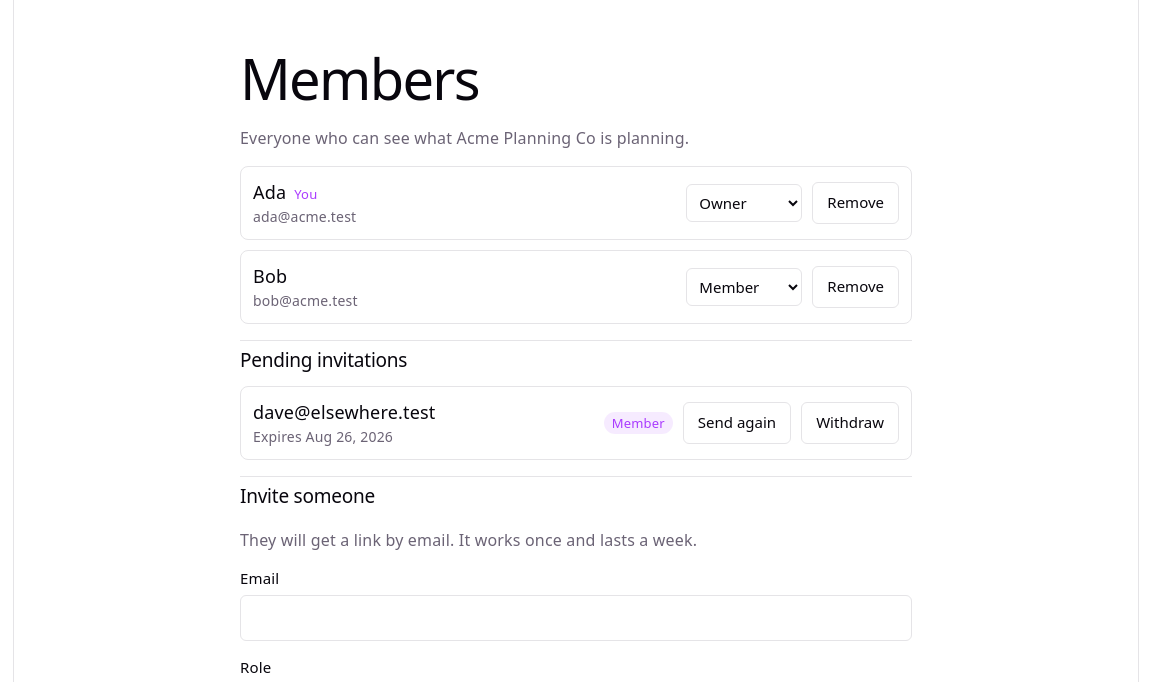
Test: MembersPage › reports a refused invitation against the address it was for
The width and height of the screenshot is (1152, 682).
expect the text "Ada" is shown: met, box [253, 180, 286, 204]
Type "bob@acme.test" into the field labelled "Email" at (576, 618), box [240, 595, 912, 641]
(page scrolled)
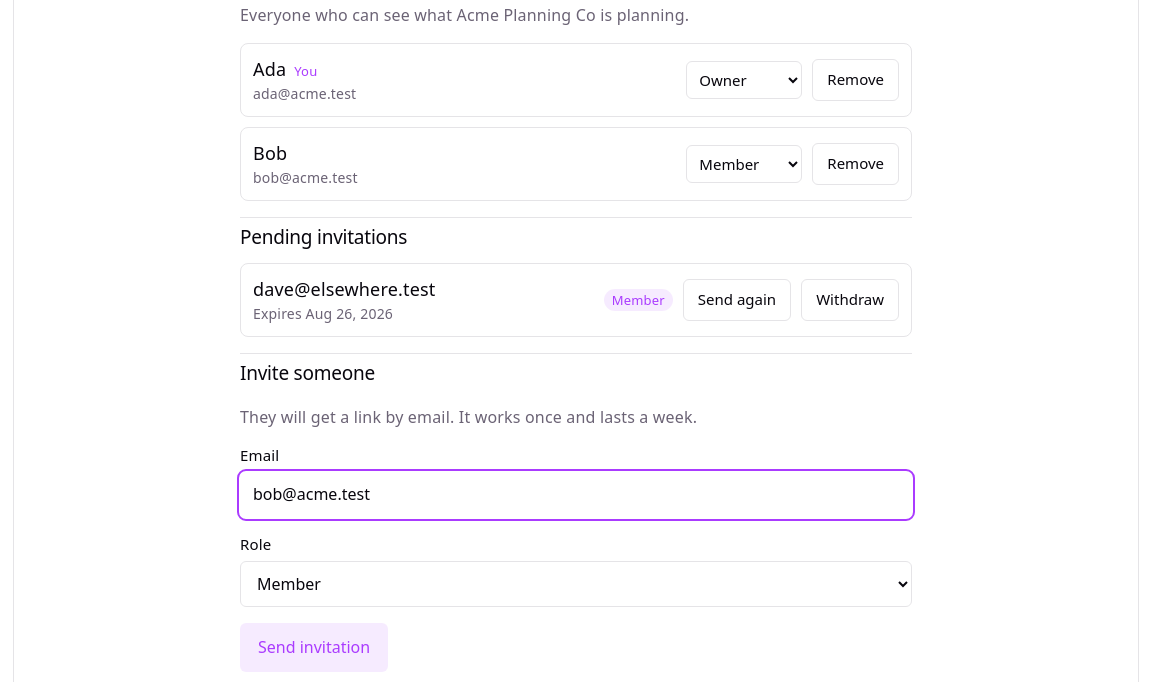
Click the button "Send invitation" at (314, 648), box [240, 623, 388, 672]
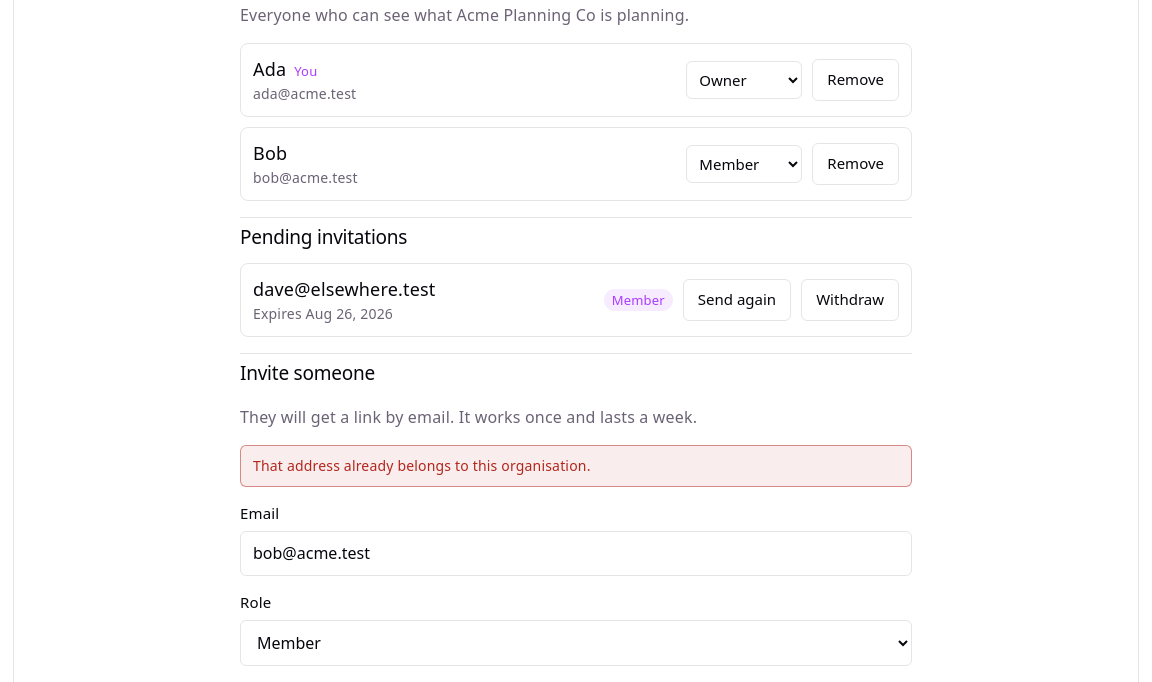
expect the message reads "That address already belongs to this organisation.": met, box [253, 456, 591, 475]
